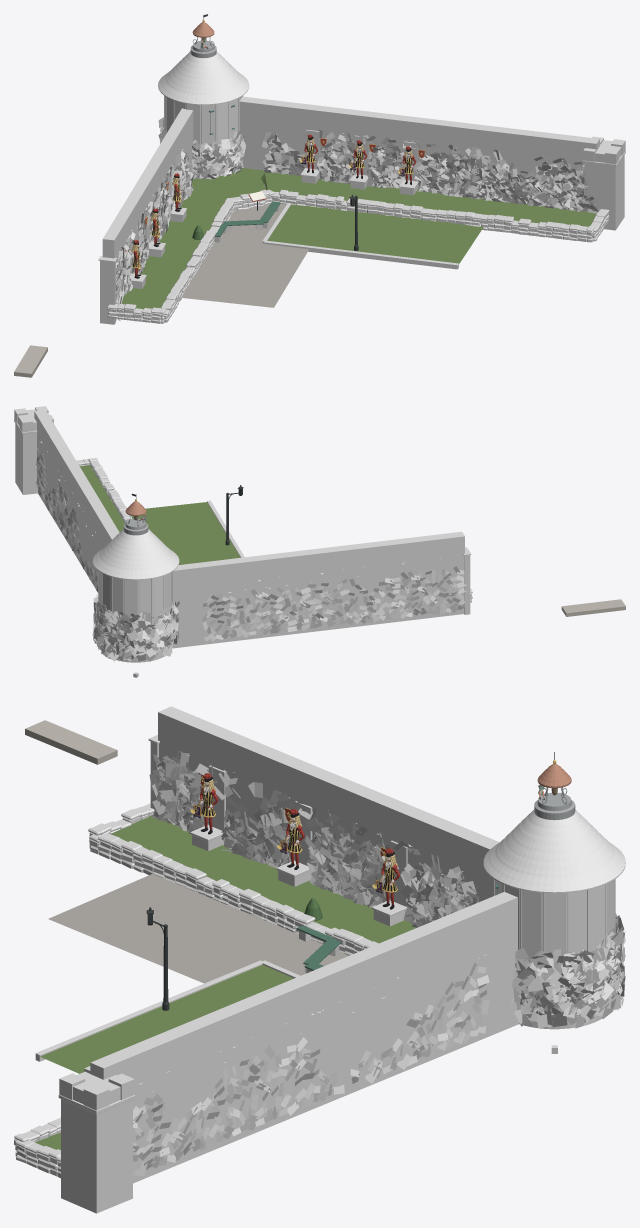
The model's file is AR_MagischeKlok.fbx.
The picture shows the model from 3 angles, top to bottom: view 1: azimuth 30°, elevation 25°; view 2: azimuth 150°, elevation 25°; view 3: azimuth 270°, elevation 25°; orthographic projection. The views are drawn at different scales.
Visible parts, largest first — view 1: static__MAT_gras_0, COLL_18, static__TEX_klimop_0, static__TEX_klimop_1, static__MAT_klinker_0, static__TEX_steen_0, static__TEX_steen_1, COLL_16, static__TEX_leien_0, static__TEX_stuc_W_0, static__TEX_baksteen_detail_0, static__TEX_stuc_N_0 (+6 smaller); view 2: COLL_16, static__TEX_klimop_0, static__TEX_klimop_1, COLL_18, static__MAT_gras_0, static__TEX_leien_0, static__TEX_stuc_N_0, static__TEX_stuc_W_0, static__TEX_steen_1, static__MAT_padklinker_0, COLL_6, COLL_5 (+4 smaller); view 3: COLL_18, static__TEX_klimop_1, COLL_16, static__TEX_klimop_0, static__MAT_klinker_0, static__MAT_gras_0, static__TEX_leien_0, static__TEX_steen_0, COLL_17, static__TEX_stuc_W_0, static__TEX_baksteen_detail_0, static__TEX_stuc_N_0 (+10 smaller).
Boxes of the visible parts, x1,y1,x2,y2 form: static__MAT_gras_0: (116,168,596,322); COLL_18: (239,96,599,188); static__TEX_klimop_0: (115,133,498,321); static__TEX_klimop_1: (158,117,597,213); static__MAT_klinker_0: (181,203,308,307); static__TEX_steen_0: (107,168,418,323); static__TEX_steen_1: (326,196,609,242); COLL_16: (102,108,193,293); static__TEX_leien_0: (158,51,249,105); static__TEX_stuc_W_0: (264,129,625,230); static__TEX_baksteen_detail_0: (131,173,458,288); static__TEX_stuc_N_0: (98,169,171,324); COLL_16: (173,531,464,640); static__TEX_klimop_0: (201,558,466,641); static__TEX_klimop_1: (36,441,179,661); COLL_18: (34,410,119,586); static__MAT_gras_0: (80,465,240,564); static__TEX_leien_0: (92,529,179,579); static__TEX_stuc_N_0: (172,547,471,648); static__TEX_stuc_W_0: (14,406,96,589); static__TEX_steen_1: (76,458,132,523); static__MAT_padklinker_0: (561,599,625,616); COLL_6: (137,578,153,654); COLL_5: (123,579,139,646); COLL_18: (90,892,517,1171); static__TEX_klimop_1: (133,913,625,1177); COLL_16: (158,706,499,902); static__TEX_klimop_0: (149,749,479,927); static__MAT_klinker_0: (48,874,348,983); static__MAT_gras_0: (35,815,418,1149); static__TEX_leien_0: (483,809,625,893); static__TEX_steen_0: (88,803,406,955); COLL_17: (61,1071,132,1200); static__TEX_stuc_W_0: (58,1014,519,1213); static__TEX_baksteen_detail_0: (35,835,405,1061); static__TEX_stuc_N_0: (148,735,407,905).
Size of the model in its own units: 35.62 by 10.43 by 19.26.
